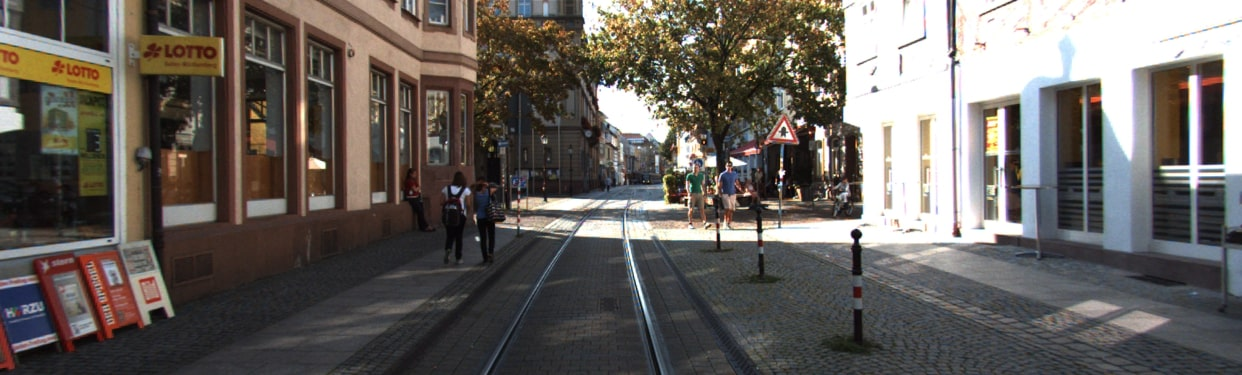Cyclist: (831, 177, 859, 220)
person: (441, 167, 467, 267), (476, 177, 499, 266), (404, 167, 431, 234), (684, 164, 708, 234), (719, 159, 737, 227)
